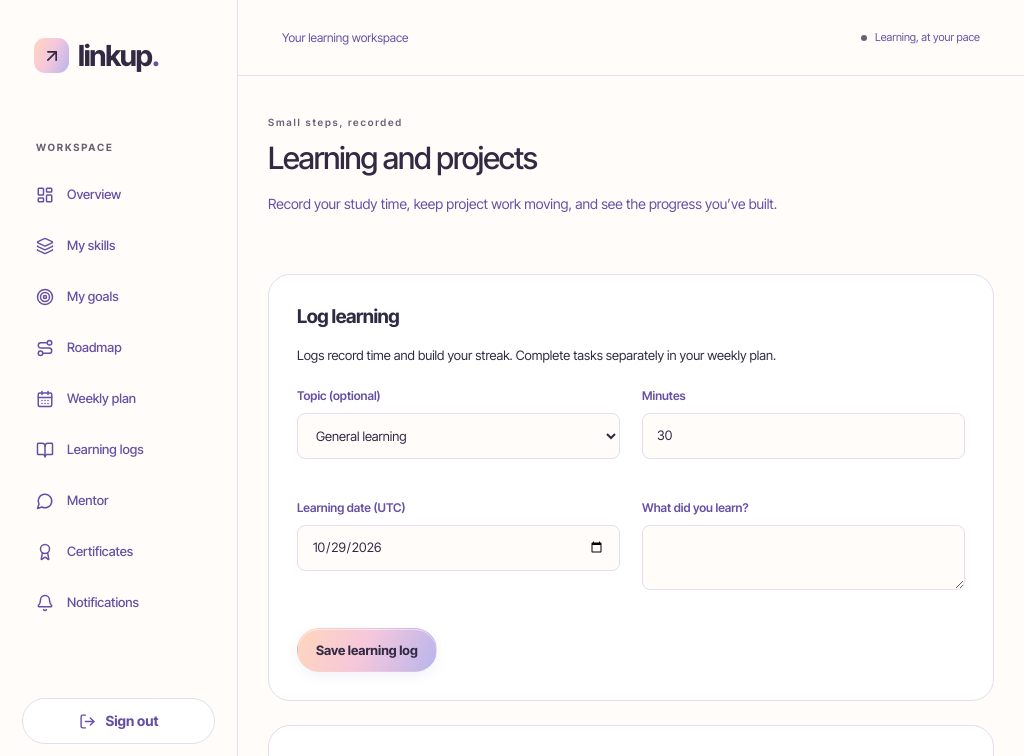
Scenario: Learning logs and projects › loads an empty history and saves a general learning session
In the text box labelled "What did you learn?": (804, 557) [642, 525, 965, 590], type "Practiced component state"
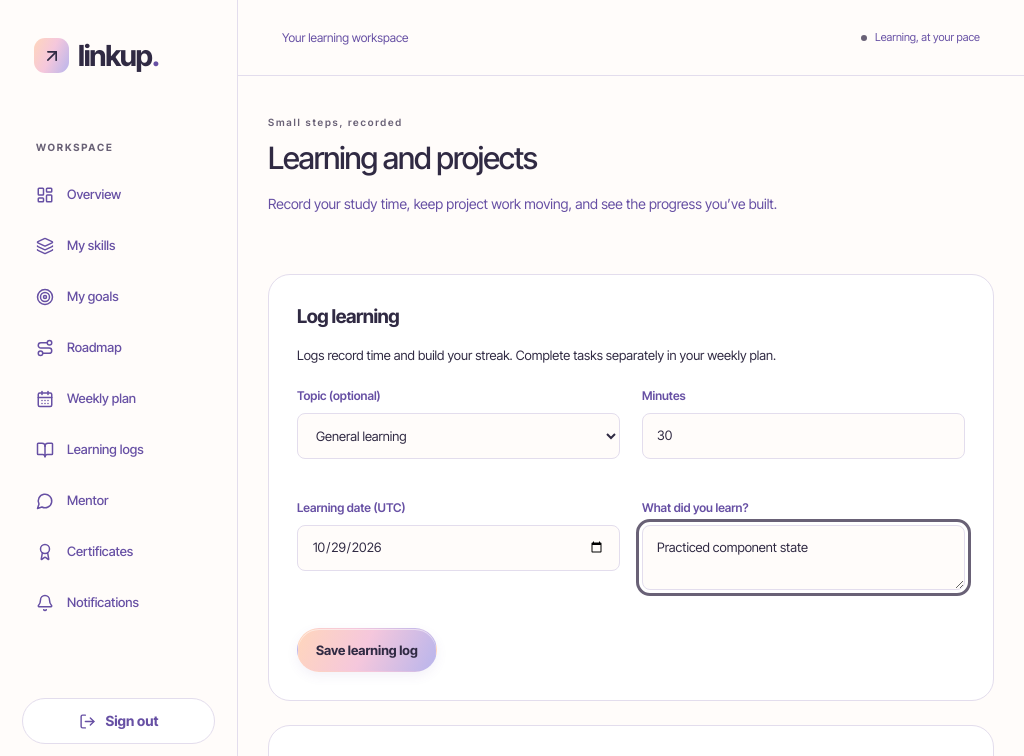
Click the button "Save learning log": (367, 650) [297, 628, 437, 672]
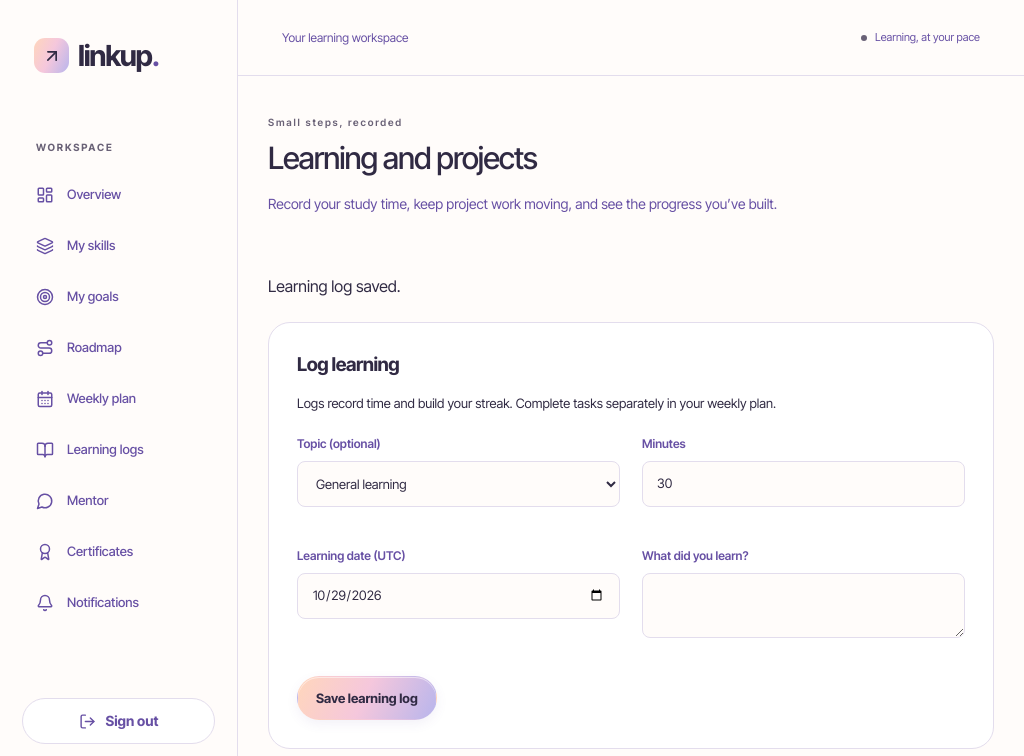
Result: the text "Learning log saved." is shown at [268, 276, 401, 296]
